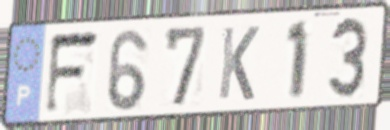1: (284, 20, 310, 102)
3: (325, 14, 371, 101)
6: (104, 26, 149, 114)
7: (163, 25, 210, 109)
F: (42, 28, 103, 119)
K: (216, 24, 261, 103)
